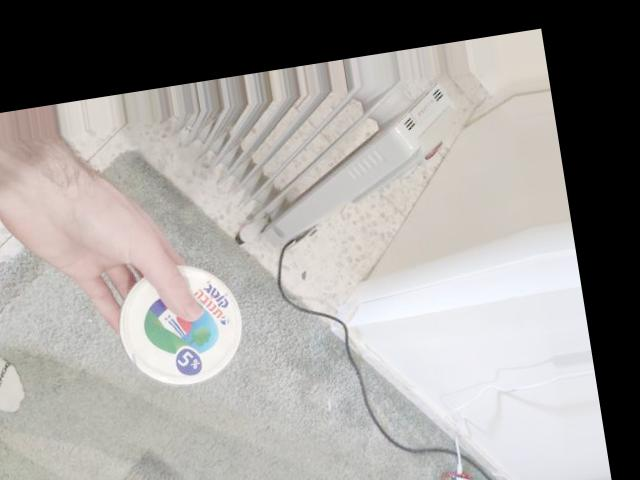cotage: (114, 258, 243, 387)
